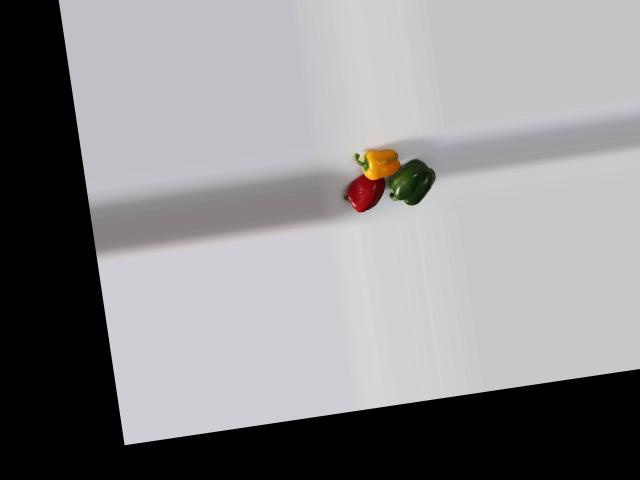bell_pepper: (353, 142, 403, 188)
